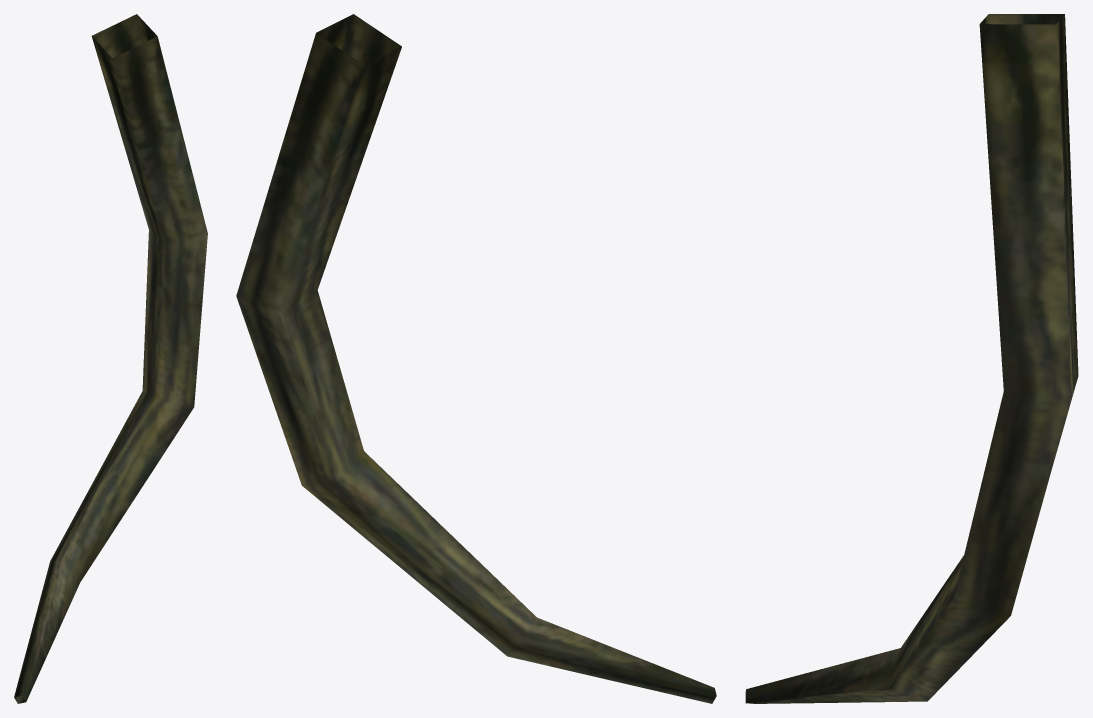
Rendered from OVERHILL_A_01_LINE337.fbx.
3 renders of one model, left to right at view 1: azimuth 30°, elevation 25°; view 2: azimuth 150°, elevation 25°; view 3: azimuth 270°, elevation 25°, orthographic. The views are drawn at different scales.
Parts seen in each view (by area): view 1: OVERHILL_A_01_LINE337; view 2: OVERHILL_A_01_LINE337; view 3: OVERHILL_A_01_LINE337.
Part boxes in pixels (left/top/right/bottom): OVERHILL_A_01_LINE337: left=14, top=14, right=207, bottom=703; OVERHILL_A_01_LINE337: left=236, top=14, right=716, bottom=703; OVERHILL_A_01_LINE337: left=745, top=14, right=1078, bottom=703.
Size of the model in its own units: 9571 by 18186 by 6537.
Materials: 1 (1 with a texture image).
